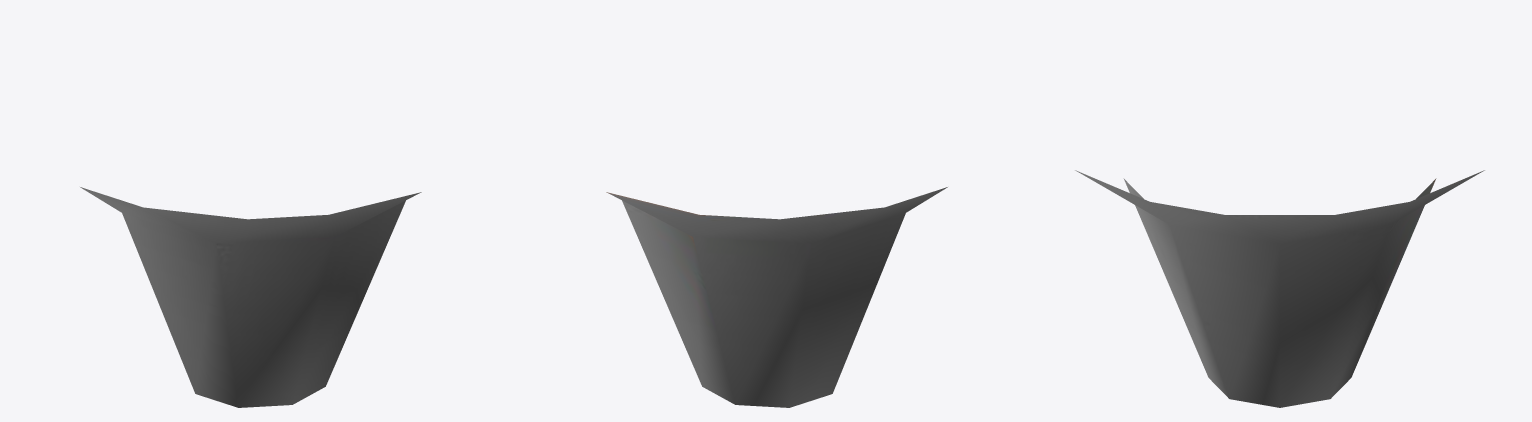
The model's file is SM_Fan_Base_01.glb.
The picture shows the model from 3 angles, left to right: view 1: azimuth 30°, elevation 25°; view 2: azimuth 150°, elevation 25°; view 3: azimuth 270°, elevation 25°; orthographic projection.
Parts seen in each view (by area): view 1: SM_Fan_Base_01; view 2: SM_Fan_Base_01; view 3: SM_Fan_Base_01.
Boxes of the visible parts, x1,y1,x2,y2 form: SM_Fan_Base_01: [80, 187, 421, 407]; SM_Fan_Base_01: [606, 187, 947, 407]; SM_Fan_Base_01: [1075, 170, 1484, 407].
Bounding box in the file's own units: 0.1694 × 0.1059 × 0.1694.
1 material, 1 textured.
